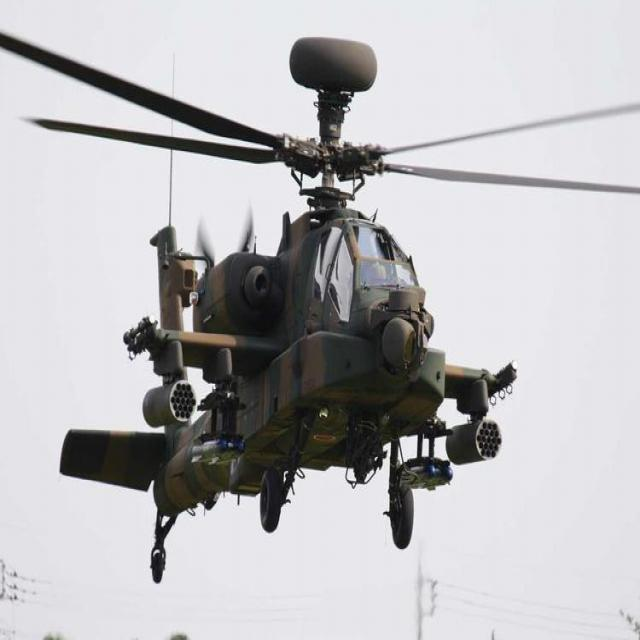MIL_HELO: (1, 26, 640, 586)
